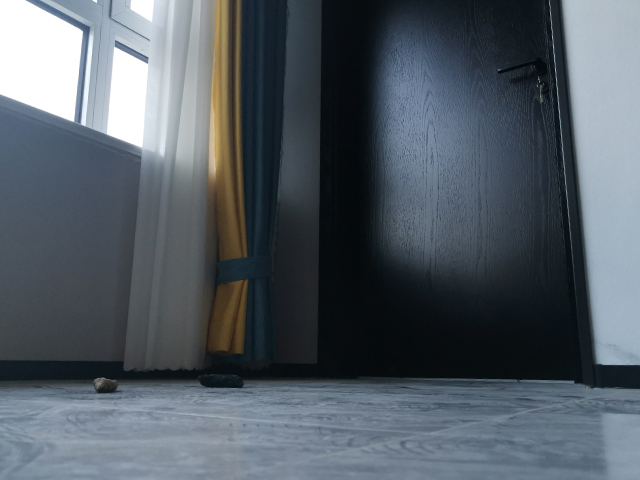curtain: (119, 1, 294, 376)
feces: (196, 372, 247, 389), (91, 376, 120, 395)
